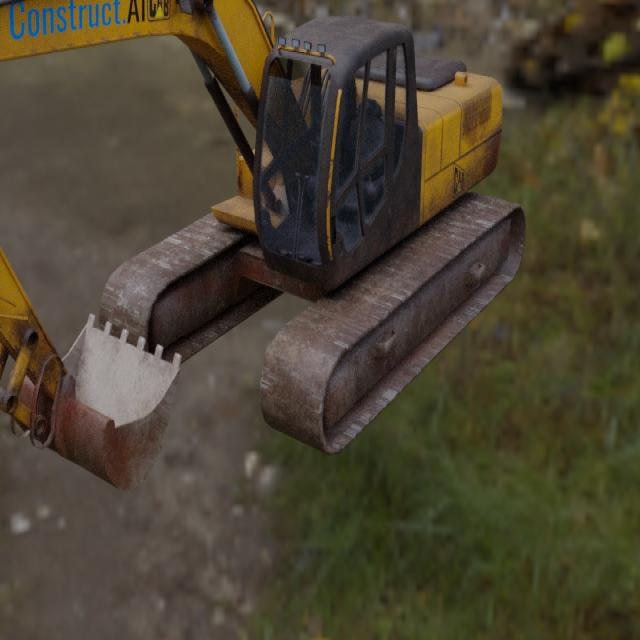excavator: (0, 0, 527, 492)
